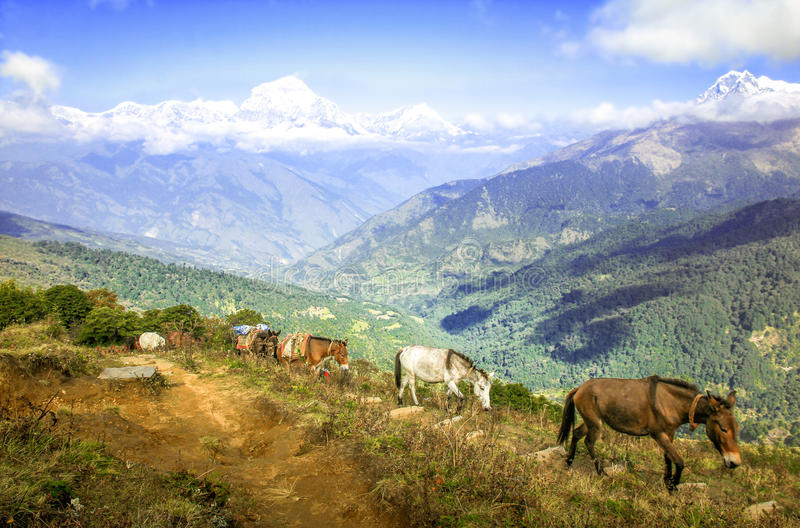equine: (548, 365, 751, 501), (382, 338, 512, 410), (256, 328, 369, 383), (224, 322, 284, 360)
